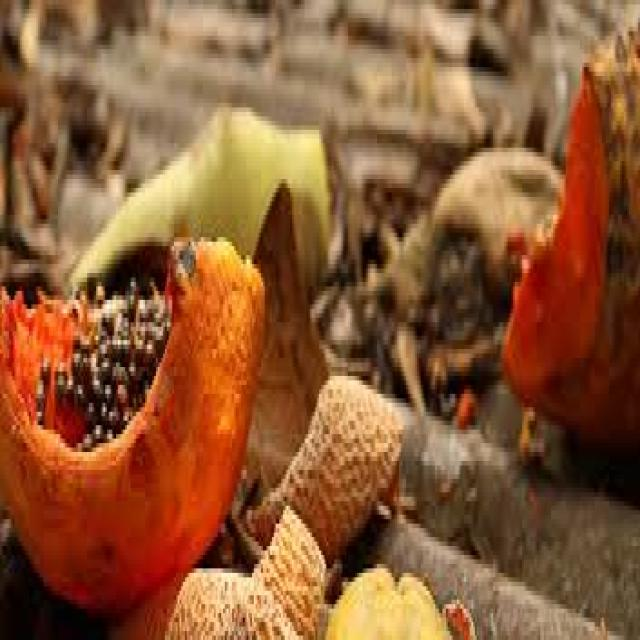Organik: (0, 25, 640, 611), (0, 163, 272, 608)
